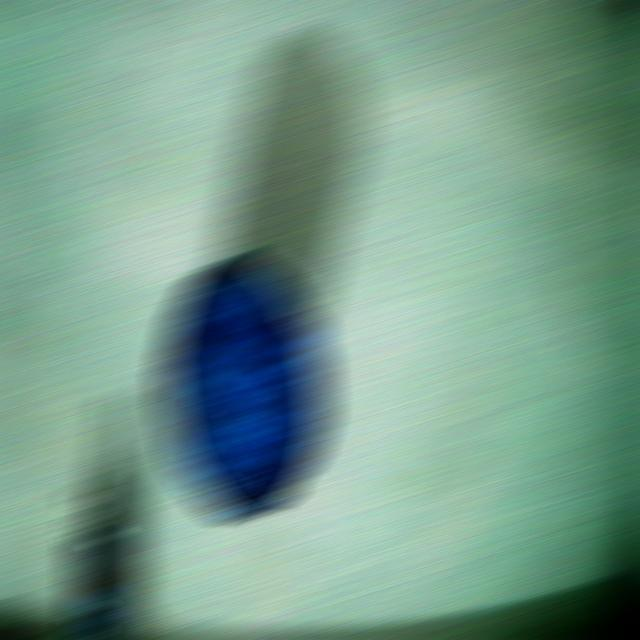blue: (159, 253, 326, 520)
